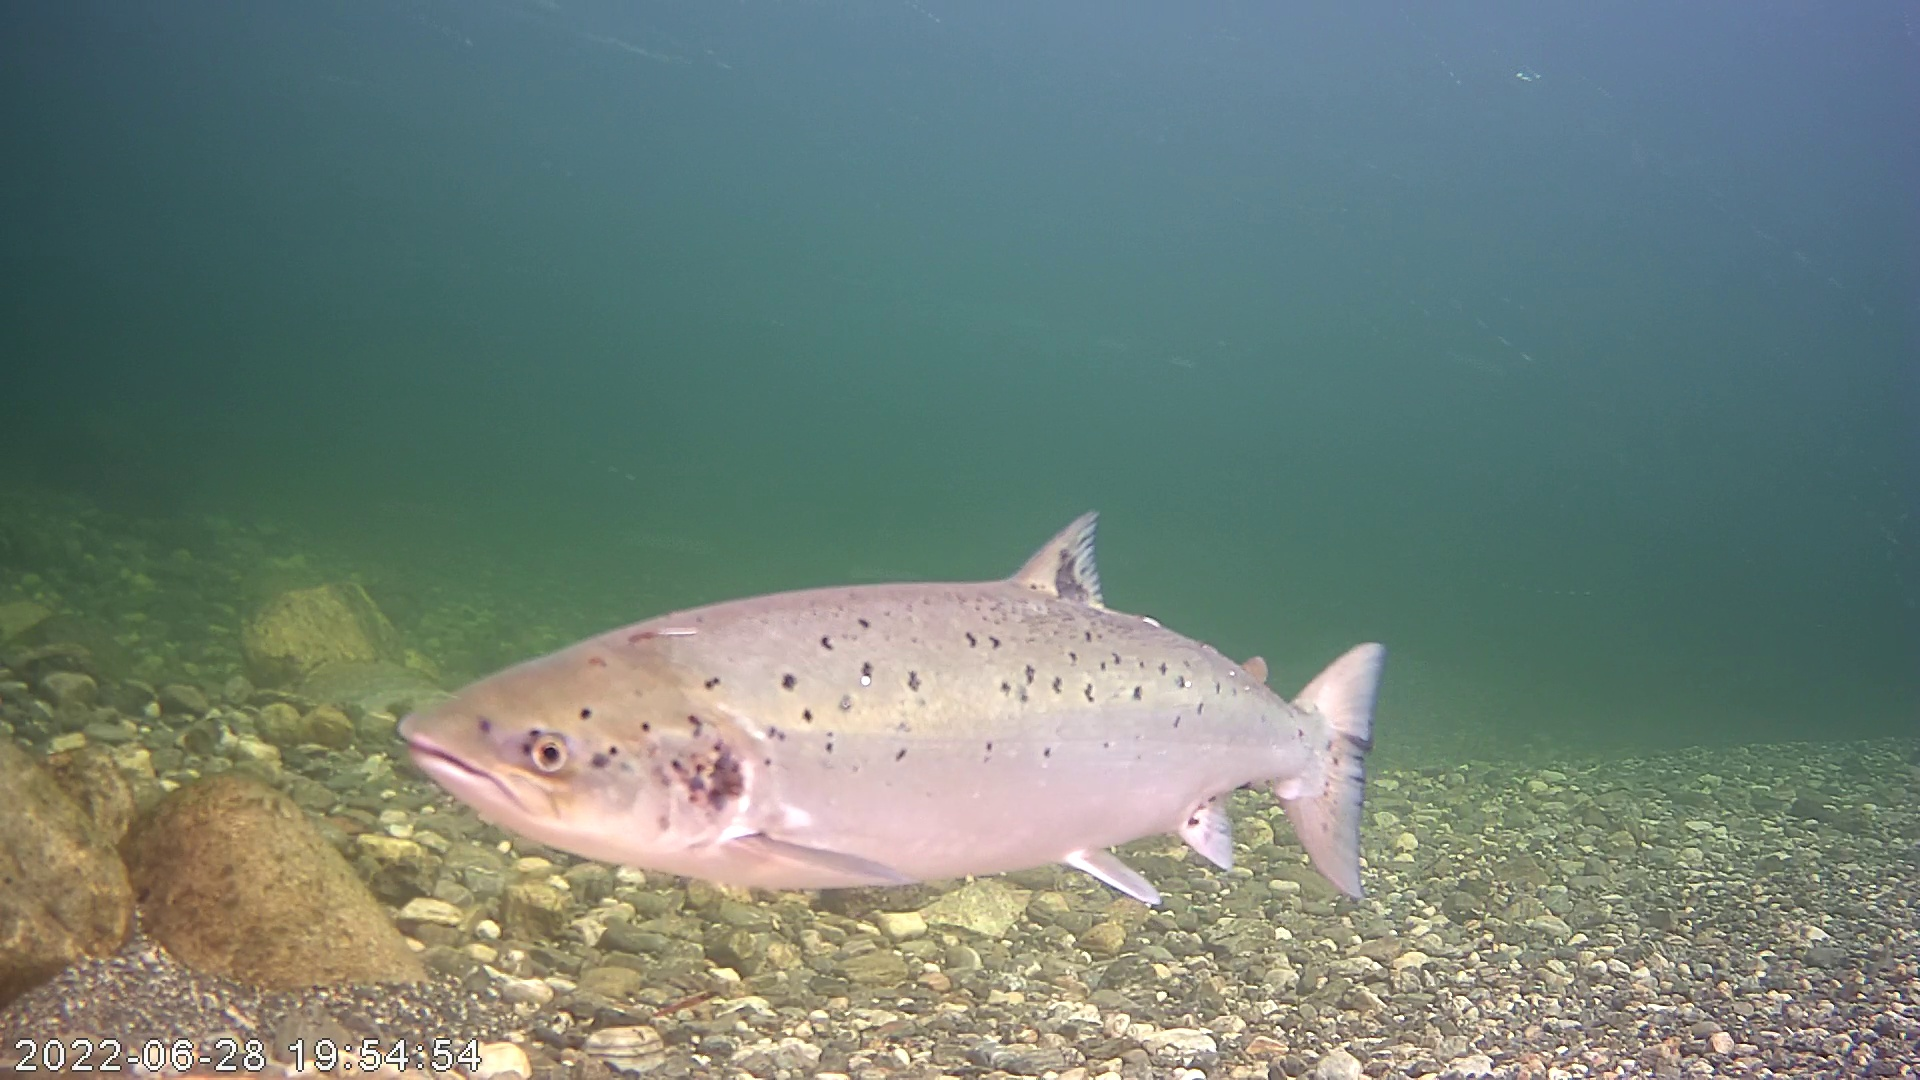salmon: (380, 473, 1407, 913)
